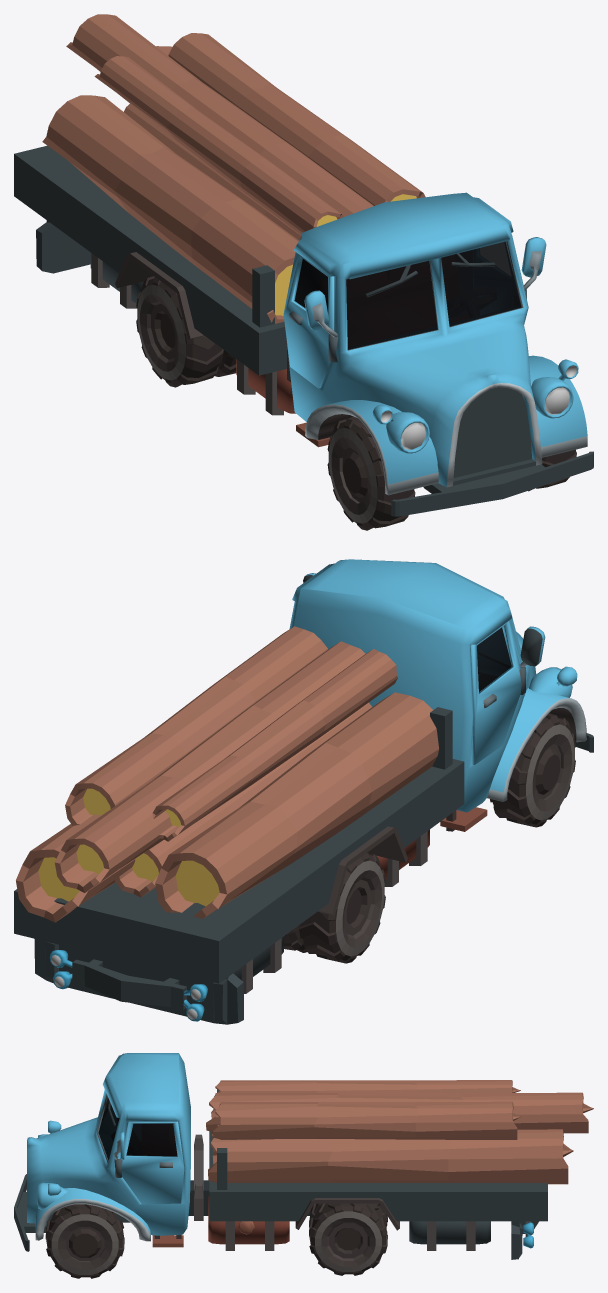
File: truck_wood (1).obj
The picture shows the model from 3 angles, top to bottom: view 1: azimuth 30°, elevation 25°; view 2: azimuth 150°, elevation 25°; view 3: azimuth 270°, elevation 25°; orthographic projection. The views are drawn at different scales.
Parts seen in each view (by area): view 1: Truck_body.001, Prop2, Truck_Trailler1, Truck_Engine.001, Truck_Wheel_Back.001, Truck_Wheel_Front.right.001, Truck_Door.right.001, Truck_Bumper.001, TruckModule_OilTank.001, Truck_WheelCover.001, TruckModule_Laggage.001; view 2: Prop2, Truck_body.001, Truck_Trailler1, Truck_Bumper.001, Truck_Wheel_Back.001, Truck_Wheel_Front.right.001, Truck_Door.right.001, Truck_WheelCover.001, TruckModule_Laggage.001, TruckModule_OilTank.001; view 3: Prop2, Truck_body.001, Truck_Trailler1, Truck_Wheel_Back.001, Truck_Wheel_Front.left.001, Truck_Door.left.001, TruckModule_OilTank.001, TruckModule_Laggage.001, Truck_Chassy_Short.001, Truck_Engine.001, Truck_WheelCover.001, Truck_Bumper.001.
Boxes of the visible parts, x1=… form: Truck_body.001: x1=287, y1=192, x2=587, y2=495; Prop2: x1=42, y1=14, x2=425, y2=323; Truck_Trailler1: x1=14, y1=145, x2=287, y2=375; Truck_Engine.001: x1=391, y1=387, x2=593, y2=516; Truck_Wheel_Back.001: x1=136, y1=276, x2=236, y2=387; Truck_Wheel_Front.right.001: x1=327, y1=416, x2=415, y2=530; Truck_Door.right.001: x1=283, y1=252, x2=333, y2=388; Truck_Bumper.001: x1=36, y1=220, x2=90, y2=273; TruckModule_OilTank.001: x1=236, y1=359, x2=295, y2=415; Truck_WheelCover.001: x1=115, y1=252, x2=203, y2=339; TruckModule_Laggage.001: x1=90, y1=252, x2=143, y2=308; Prop2: x1=16, y1=626, x2=438, y2=922; Truck_body.001: x1=290, y1=559, x2=586, y2=831; Truck_Trailler1: x1=14, y1=707, x2=464, y2=983; Truck_Bumper.001: x1=34, y1=938, x2=243, y2=1024; Truck_Wheel_Back.001: x1=284, y1=853, x2=385, y2=963; Truck_Wheel_Front.right.001: x1=490, y1=713, x2=575, y2=827; Truck_Door.right.001: x1=470, y1=621, x2=521, y2=764; Truck_WheelCover.001: x1=318, y1=826, x2=407, y2=915; TruckModule_Laggage.001: x1=233, y1=936, x2=283, y2=993; TruckModule_OilTank.001: x1=368, y1=829, x2=429, y2=886; Prop2: x1=206, y1=1080, x2=593, y2=1184; Truck_body.001: x1=27, y1=1053, x2=190, y2=1247; Truck_Trailler1: x1=209, y1=1089, x2=547, y2=1221; Truck_Wheel_Back.001: x1=309, y1=1203, x2=387, y2=1275; Truck_Wheel_Front.left.001: x1=45, y1=1204, x2=124, y2=1278; Truck_Door.left.001: x1=120, y1=1121, x2=184, y2=1204; TruckModule_OilTank.001: x1=208, y1=1196, x2=289, y2=1250; TruckModule_Laggage.001: x1=409, y1=1221, x2=490, y2=1250; Truck_Chassy_Short.001: x1=188, y1=1134, x2=310, y2=1220; Truck_Engine.001: x1=14, y1=1174, x2=130, y2=1251; Truck_WheelCover.001: x1=295, y1=1198, x2=399, y2=1230; Truck_Bumper.001: x1=511, y1=1221, x2=538, y2=1259.
Bounding box in the file's own units: 5.06 × 5.11 × 15.39.
